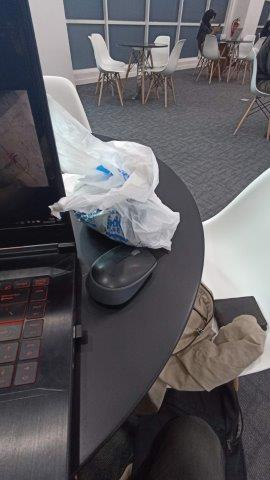plastik: (49, 97, 179, 249)
